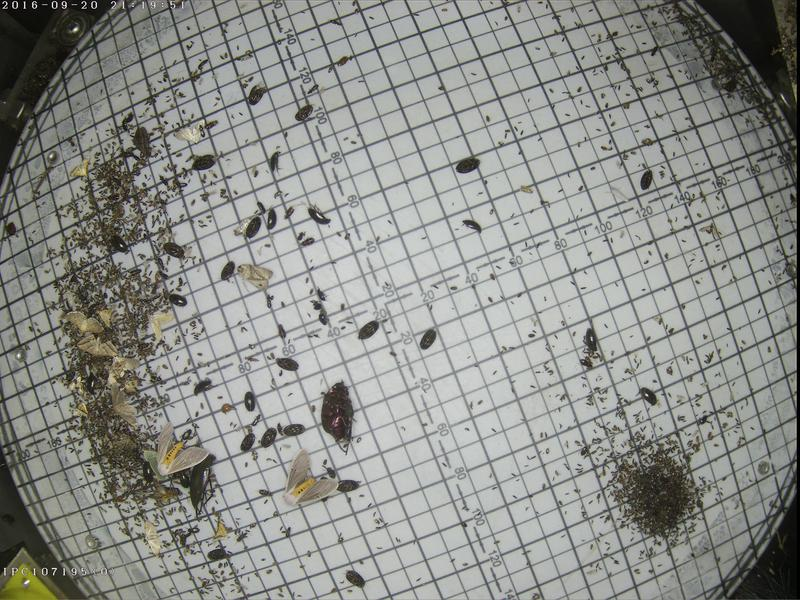Rice Leaf Roller: (70, 157, 89, 176), (97, 308, 116, 324), (212, 523, 227, 538), (74, 402, 88, 416)
